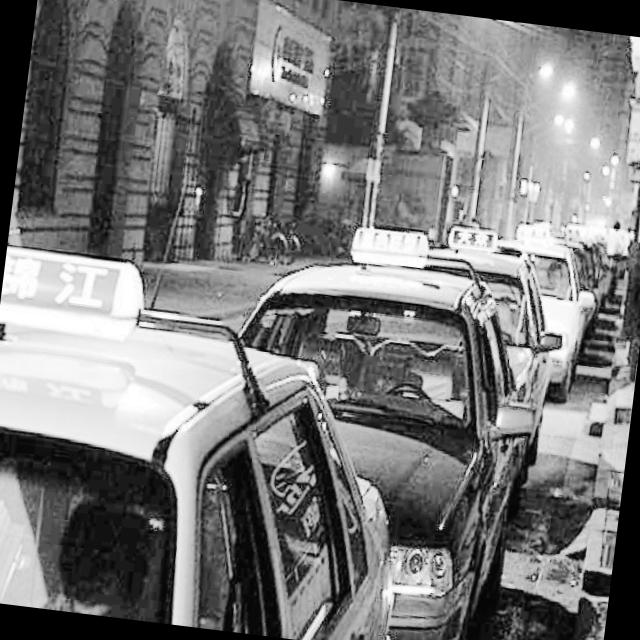Car: (196, 193, 559, 640), (0, 269, 423, 640), (426, 162, 576, 433), (514, 172, 629, 353)
